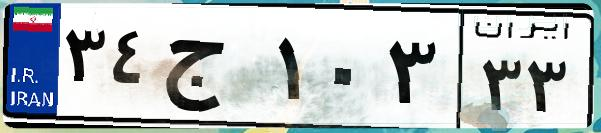0: (330, 28, 385, 110)
1: (270, 28, 330, 110)
3: (385, 28, 445, 110), (57, 26, 110, 100), (475, 38, 525, 113), (525, 38, 570, 115)
4: (110, 28, 158, 98)
ج: (158, 20, 270, 120)
